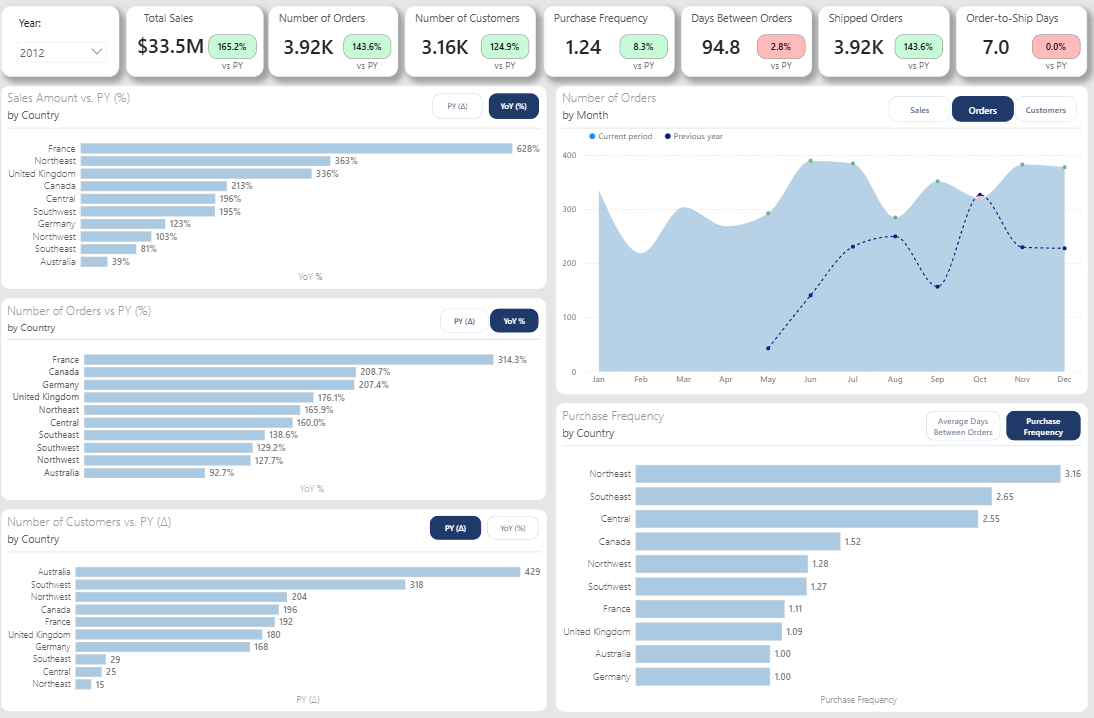

The page's visual inventory and layout, read from the dashboard file:
{"tool":"powerbi","page":{"name":"My","canvas":[1920,1280],"ordinal":0},"visuals":[{"type":"shape","box":[218,24,240,124],"z":0,"group":"g10"},{"type":"shape","box":[466,24,226.6,124.3],"z":0,"group":"g11"},{"type":"shape","box":[705.1,24,228.6,124],"z":0,"group":"g12"},{"type":"shape","box":[945.7,24,228.6,124],"z":0,"group":"g5"},{"type":"shape","box":[1186.3,24,228.6,124],"z":0,"group":"g6"},{"type":"shape","box":[1426.9,24,228.6,124],"z":0,"group":"g8"},{"type":"shape","box":[1667.4,24,228.6,124],"z":0,"group":"g9"},{"type":"group","id":"g1","title":"Sales Amount by Country","box":[0,164,952,354],"z":0},{"type":"barChart","title":"Sales Amount vs. PY (Δ)","fields":{"Category":["dim_customer.TerritoryName"],"Y":["Measure.Total Sales vs PY (Δ)"]},"box":[0,164,952,354],"z":0,"group":"g1"},{"type":"lineChart","fields":{"Category":["Order Date.Month Name"],"Y":["Measure.Line Current","Measure.Line Previous Year","Measure.Line Below PY","Measure.Line Above PY"]},"box":[968,164,928,538],"z":0,"group":"g2"},{"type":"barChart","title":"Number of Customers vs. PY (Δ)","fields":{"Category":["dim_customer.TerritoryName"],"Y":["Measure.Number of Customer vs PY (Δ)"]},"box":[0,904,953,352],"z":0,"group":"g4"},{"type":"shape","box":[0,24,206,124],"z":1000},{"type":"card","fields":{"Values":["Measure.Total sales"]},"box":[228,62,134,64],"z":1000,"group":"g10"},{"type":"card","fields":{"Values":["Measure.Number of Orders"]},"box":[476,63.4,117.1,62.9],"z":1000,"group":"g11"},{"type":"card","fields":{"Values":["Measure.Number of Customers"]},"box":[715.2,63.4,118.2,62.7],"z":1000,"group":"g12"},{"type":"card","fields":{"Values":["Measure.Purchase Frequency"]},"box":[955.8,63.4,118.2,62.7],"z":1000,"group":"g5"},{"type":"card","fields":{"Values":["Measure.Average Days Between Orders"]},"box":[1196.4,63.4,118.2,62.7],"z":1000,"group":"g6"},{"type":"card","fields":{"Values":["Measure.Shipped Orders"]},"box":[1437,63.4,118.2,62.7],"z":1000,"group":"g8"},{"type":"card","fields":{"Values":["Measure.Average Order-to-Ship Days"]},"box":[1677.5,63.4,118.2,62.7],"z":1000,"group":"g9"},{"type":"textbox","title":"Legend","box":[1020,236,350,34],"z":1000,"group":"g2"},{"type":"card","fields":{"Values":["Measure.Total sales YoY %"]},"box":[362,73.7,84,42],"z":2000,"group":"g10"},{"type":"card","fields":{"Values":["Measure.Number of Customers YoY %"]},"box":[837.1,73.7,84,42],"z":2000,"group":"g12"},{"type":"card","fields":{"Values":["Measure.Purchase Frequency YoY %"]},"box":[1077.7,73.7,84,42],"z":2000,"group":"g5"},{"type":"card","fields":{"Values":["Measure.Average Days Between Orders YoY %"]},"box":[1318.3,73.7,84,42],"z":2000,"group":"g6"},{"type":"card","fields":{"Values":["Measure.Shipped Orders YoY %"]},"box":[1558.9,73.7,84,42],"z":2000,"group":"g8"},{"type":"card","fields":{"Values":["Measure.Average Order-to-Ship Days YoY %"]},"box":[1799.4,73.7,84,42],"z":2000,"group":"g9"},{"type":"card","fields":{"Values":["Measure.Number of Orders YoY %"]},"box":[596.9,73.8,83.3,42.1],"z":2000,"group":"g11"},{"type":"group","id":"g2","title":"Line for Sales/Orders/Customers","box":[968,164,928,538],"z":2000},{"type":"bookmarkNavigator","box":[751.8,176,187.9,45.2],"z":2000,"group":"g1"},{"type":"advancedSlicerVisual","fields":{"Values":["Parameter for Line.Parameter for Line"]},"box":[1544,176,340,55],"z":2000,"group":"g2"},{"type":"barChart","fields":{"Category":["dim_customer.TerritoryName"],"Y":["Measure.Number of Orders YoY %"]},"box":[0,534,951.1,352],"z":2000,"group":"g3"},{"type":"bookmarkNavigator","box":[747.6,916,191,42.8],"z":2000,"group":"g4"},{"type":"textbox","box":[243.9,29.2,198.9,35.6],"z":3000,"group":"g10"},{"type":"textbox","box":[479.7,29.2,197.1,35.7],"z":3000,"group":"g11"},{"type":"textbox","box":[719,29.2,198.9,35.6],"z":3000,"group":"g12"},{"type":"textbox","box":[959.6,29.2,198.9,35.6],"z":3000,"group":"g5"},{"type":"textbox","box":[1200.2,29.2,198.9,35.6],"z":3000,"group":"g6"},{"type":"textbox","box":[1440.8,29.2,198.9,35.6],"z":3000,"group":"g8"},{"type":"textbox","box":[1681.3,29.2,198.9,35.6],"z":3000,"group":"g9"},{"type":"group","id":"g3","title":"Number of Orders by Country","box":[0,534,1030,352],"z":3000},{"type":"slicer","fields":{"Values":["Date.Year"]},"box":[18,76,176,48],"z":4000},{"type":"textbox","box":[362,112,84,36],"z":4000,"group":"g10"},{"type":"textbox","box":[837.1,112,84,36],"z":4000,"group":"g12"},{"type":"textbox","box":[1077.7,112,84,36],"z":4000,"group":"g5"},{"type":"textbox","box":[1318.3,112,84,36],"z":4000,"group":"g6"},{"type":"textbox","box":[1558.9,112,84,36],"z":4000,"group":"g8"},{"type":"textbox","box":[1799.4,112,84,36],"z":4000,"group":"g9"},{"type":"textbox","box":[596.9,112.2,83.3,36.1],"z":4000,"group":"g11"},{"type":"advancedSlicerVisual","fields":{"Values":["Parameter Number of Order by Country .Parameter Number of Order by Country "]},"box":[761,546.5,269,52.3],"z":4000,"group":"g3"},{"type":"textbox","box":[26,36,164,42],"z":5000},{"type":"group","id":"g4","title":"Number of Customers by Country","box":[0,904,952,352],"z":6000},{"type":"group","id":"g5","title":"Purchase Frequency KPI","box":[945.7,24,228.6,124],"z":7000},{"type":"group","id":"g6","title":"Days Between Orders KPI","box":[1186.3,24,228.6,124],"z":8000},{"type":"group","id":"g7","title":"Purchase frequency / Average Days Between Orders","box":[968,718,928,538],"z":9000},{"type":"group","id":"g8","title":"Shipped Orders KPI","box":[1426.9,24,228.6,124],"z":10000},{"type":"barChart","title":"Purchase Frequency","fields":{"Category":["dim_customer.TerritoryName"],"Y":["Measure.Purchase Frequency"]},"box":[968,718,928,538],"z":10000,"group":"g7"},{"type":"bookmarkNavigator","box":[1614,730,270,52],"z":10500,"group":"g7"},{"type":"group","id":"g9","title":"Order-to-Ship Days KPI","box":[1667.4,24,228.6,124],"z":11000},{"type":"group","id":"g10","title":"Sales KPI","box":[218,24,240,124],"z":12000},{"type":"group","id":"g11","title":"Orders KPI","box":[466,24,226,124],"z":13000},{"type":"group","id":"g12","title":"Customers KPI","box":[705.1,24,228.6,124],"z":14000}]}

Visuals, with their boxes in screenshot pixels (x1, y1, x2, y2), scaled from the page's 1920x1280 canvas onto the 1094x718 screenshot:
shape: [left=124, top=13, right=261, bottom=83]
shape: [left=266, top=13, right=395, bottom=83]
shape: [left=402, top=13, right=532, bottom=83]
shape: [left=539, top=13, right=669, bottom=83]
shape: [left=676, top=13, right=806, bottom=83]
shape: [left=813, top=13, right=943, bottom=83]
shape: [left=950, top=13, right=1080, bottom=83]
"Sales Amount by Country" group: [left=0, top=92, right=542, bottom=291]
"Sales Amount vs. PY (Δ)" barChart: [left=0, top=92, right=542, bottom=291]
lineChart - Order Date.Month Name x Measure.Line Current: [left=552, top=92, right=1080, bottom=394]
"Number of Customers vs. PY (Δ)" barChart: [left=0, top=507, right=543, bottom=705]
shape: [left=0, top=13, right=117, bottom=83]
card - Measure.Total sales: [left=130, top=35, right=206, bottom=71]
card - Measure.Number of Orders: [left=271, top=36, right=338, bottom=71]
card - Measure.Number of Customers: [left=408, top=36, right=475, bottom=71]
card - Measure.Purchase Frequency: [left=545, top=36, right=612, bottom=71]
card - Measure.Average Days Between Orders: [left=682, top=36, right=749, bottom=71]
card - Measure.Shipped Orders: [left=819, top=36, right=886, bottom=71]
card - Measure.Average Order-to-Ship Days: [left=956, top=36, right=1023, bottom=71]
"Legend" textbox: [left=581, top=132, right=781, bottom=151]
card - Measure.Total sales YoY %: [left=206, top=41, right=254, bottom=65]
card - Measure.Number of Customers YoY %: [left=477, top=41, right=525, bottom=65]
card - Measure.Purchase Frequency YoY %: [left=614, top=41, right=662, bottom=65]
card - Measure.Average Days Between Orders YoY %: [left=751, top=41, right=799, bottom=65]
card - Measure.Shipped Orders YoY %: [left=888, top=41, right=936, bottom=65]
card - Measure.Average Order-to-Ship Days YoY %: [left=1025, top=41, right=1073, bottom=65]
card - Measure.Number of Orders YoY %: [left=340, top=41, right=388, bottom=65]
"Line for Sales/Orders/Customers" group: [left=552, top=92, right=1080, bottom=394]
bookmarkNavigator: [left=428, top=99, right=535, bottom=124]
advancedSlicerVisual - Parameter for Line.Parameter for Line: [left=880, top=99, right=1073, bottom=130]
barChart - dim_customer.TerritoryName x Measure.Number of Orders YoY %: [left=0, top=300, right=542, bottom=497]
bookmarkNavigator: [left=426, top=514, right=535, bottom=538]
textbox: [left=139, top=16, right=252, bottom=36]
textbox: [left=273, top=16, right=386, bottom=36]
textbox: [left=410, top=16, right=523, bottom=36]
textbox: [left=547, top=16, right=660, bottom=36]
textbox: [left=684, top=16, right=797, bottom=36]
textbox: [left=821, top=16, right=934, bottom=36]
textbox: [left=958, top=16, right=1071, bottom=36]
"Number of Orders by Country" group: [left=0, top=300, right=587, bottom=497]
slicer - Date.Year: [left=10, top=43, right=111, bottom=70]
textbox: [left=206, top=63, right=254, bottom=83]
textbox: [left=477, top=63, right=525, bottom=83]
textbox: [left=614, top=63, right=662, bottom=83]
textbox: [left=751, top=63, right=799, bottom=83]
textbox: [left=888, top=63, right=936, bottom=83]
textbox: [left=1025, top=63, right=1073, bottom=83]
textbox: [left=340, top=63, right=388, bottom=83]
advancedSlicerVisual - Parameter Number of Order by Country .Parameter Number of Order by Country : [left=434, top=307, right=587, bottom=336]
textbox: [left=15, top=20, right=108, bottom=44]
"Number of Customers by Country" group: [left=0, top=507, right=542, bottom=705]
"Purchase Frequency KPI" group: [left=539, top=13, right=669, bottom=83]
"Days Between Orders KPI" group: [left=676, top=13, right=806, bottom=83]
"Purchase frequency / Average Days Between Orders" group: [left=552, top=403, right=1080, bottom=705]
"Shipped Orders KPI" group: [left=813, top=13, right=943, bottom=83]
"Purchase Frequency" barChart: [left=552, top=403, right=1080, bottom=705]
bookmarkNavigator: [left=920, top=409, right=1073, bottom=439]
"Order-to-Ship Days KPI" group: [left=950, top=13, right=1080, bottom=83]
"Sales KPI" group: [left=124, top=13, right=261, bottom=83]
"Orders KPI" group: [left=266, top=13, right=394, bottom=83]
"Customers KPI" group: [left=402, top=13, right=532, bottom=83]
